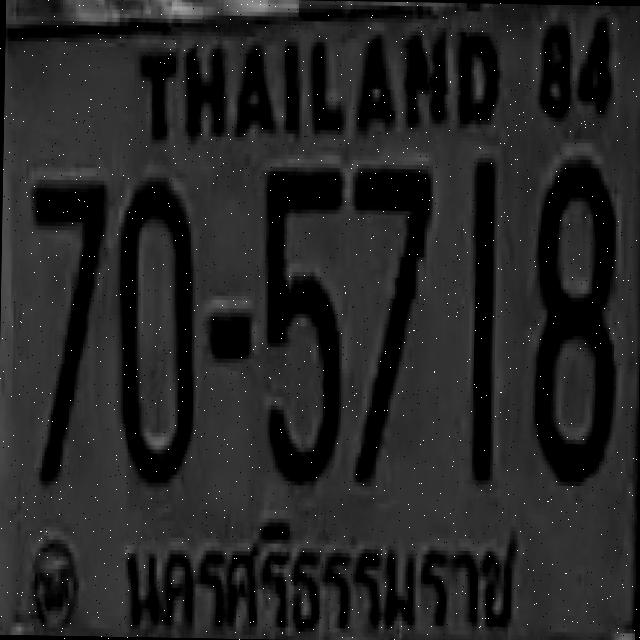0: (112, 174, 196, 481)
1: (466, 157, 495, 476)
5: (259, 162, 342, 481)
7: (346, 164, 429, 478), (25, 174, 105, 482), (25, 174, 105, 436)
8: (530, 155, 616, 478)
NakhonSiThammarat: (102, 501, 539, 640)
